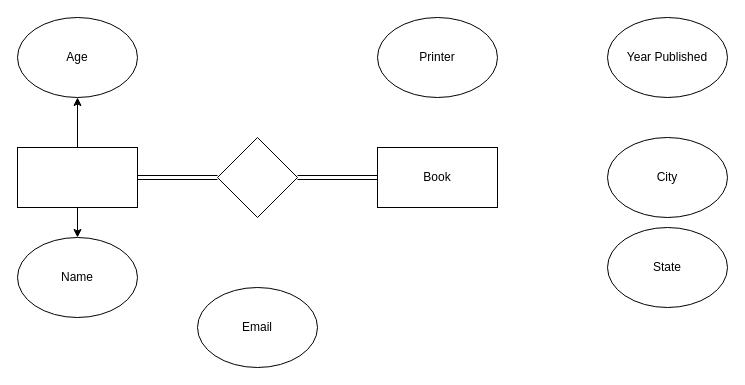
Image size: 745x385. Some labels were removed from this diagram. Here are the shapes that lost their labels. From the top down, the centre of each, then its label:
(x=77, y=177): Author
(x=257, y=177): Written By
